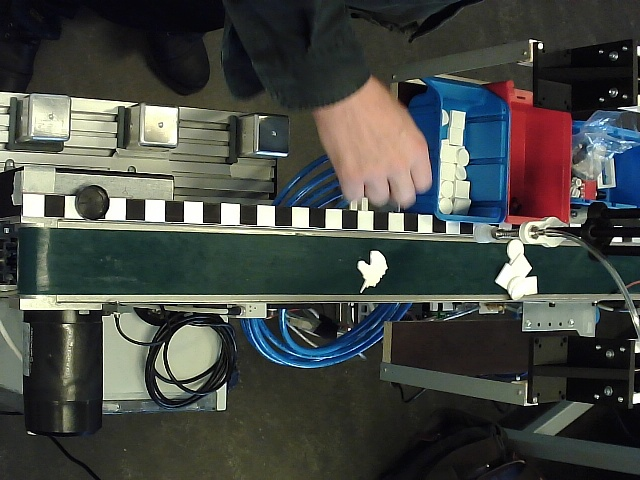unicorn: (356, 250, 389, 294)
